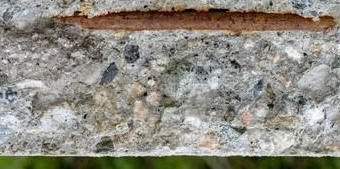Exposed reinforcement: (50, 9, 337, 31)
Spalling: (1, 1, 340, 157)
